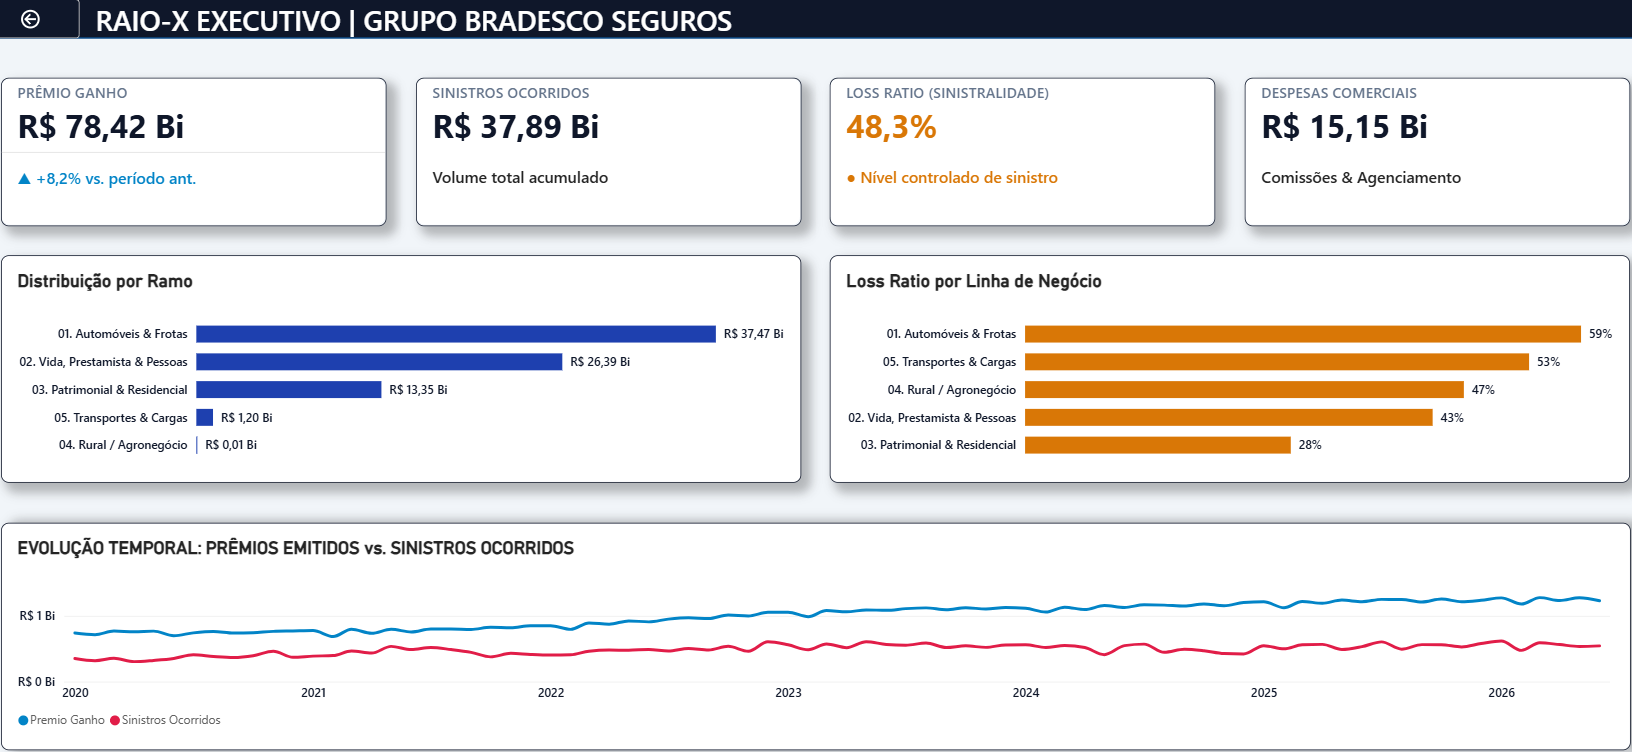

Layout of this report page (visuals, bound fields, positions):
{"tool":"powerbi","page":{"name":"Raio-X Seguradora","canvas":[1920,1080],"ordinal":2},"visuals":[{"type":"shape","box":[0,0,1760,40],"z":0},{"type":"actionButton","box":[0,0,100,40],"z":1000},{"type":"cardVisual","fields":{"Data":["_tabMedidas.Titulo_RaioX"]},"box":[100,0,1660,40],"z":2000},{"type":"cardVisual","fields":{"Data":["_tabMedidas.Premio Ganho"]},"box":[20,80,390,150],"z":3000},{"type":"cardVisual","fields":{"Data":["_tabMedidas.Sinistros Ocorridos"]},"box":[440,80,390,150],"z":4000},{"type":"cardVisual","fields":{"Data":["_tabMedidas.Loss Ratio %"]},"box":[860,80,390,150],"z":5000},{"type":"cardVisual","fields":{"Data":["_tabMedidas.Despesas Comerciais"]},"box":[1280,80,390,150],"z":6000},{"type":"clusteredBarChart","title":"Distribuição por Ramo","fields":{"Y":["_tabMedidas.Premio Ganho"],"Category":["dim_ramos.linha_negocio"]},"box":[20.5,260,810,230],"z":7000},{"type":"clusteredBarChart","title":"Loss Ratio por Linha de Negócio","fields":{"Category":["dim_ramos.linha_negocio"],"Y":["_tabMedidas.Loss Ratio %"]},"box":[860,260,810,230],"z":8000},{"type":"lineChart","title":"EVOLUÇÃO TEMPORAL: PRÊMIOS EMITIDOS vs. SINISTROS OCORRIDOS","fields":{"Y":["_tabMedidas.Premio Ganho","_tabMedidas.Sinistros Ocorridos"],"Category":["dCalendario.Date.Variation.Hierarquia de datas.Ano","dCalendario.Date.Variation.Hierarquia de datas.Mês"]},"box":[20,530,1650,230.7],"z":9000}]}

Visuals, with their boxes on the page's 1920x1080 design canvas (x1, y1, x2, y2). These are canvas units, not pixel positions in the 1632x752 screenshot, which may show the page scaled, cropped or inside an application window:
shape: locate(0, 0, 1760, 40)
actionButton: locate(0, 0, 100, 40)
cardVisual - _tabMedidas.Titulo_RaioX: locate(100, 0, 1760, 40)
cardVisual - _tabMedidas.Premio Ganho: locate(20, 80, 410, 230)
cardVisual - _tabMedidas.Sinistros Ocorridos: locate(440, 80, 830, 230)
cardVisual - _tabMedidas.Loss Ratio %: locate(860, 80, 1250, 230)
cardVisual - _tabMedidas.Despesas Comerciais: locate(1280, 80, 1670, 230)
"Distribuição por Ramo" clusteredBarChart: locate(20, 260, 830, 490)
"Loss Ratio por Linha de Negócio" clusteredBarChart: locate(860, 260, 1670, 490)
"EVOLUÇÃO TEMPORAL: PRÊMIOS EMITIDOS vs. SINISTROS OCORRIDOS" lineChart: locate(20, 530, 1670, 761)
